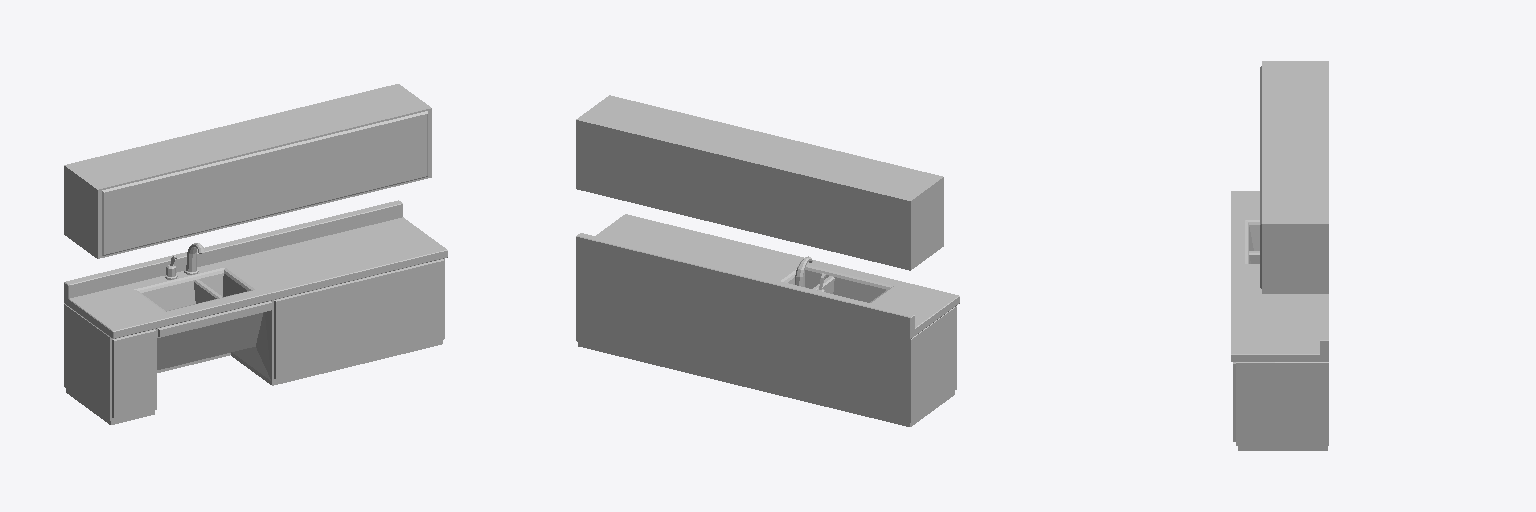
File: breakroom_counter.obj
3 views of the same model, side by side, from view 1: azimuth 30°, elevation 25°; view 2: azimuth 150°, elevation 25°; view 3: azimuth 270°, elevation 25° (orthographic).
Visible parts, largest first — view 1: breakroom_counter breakRoom_cabinetry godot_exports; view 2: breakroom_counter breakRoom_cabinetry godot_exports; view 3: breakroom_counter breakRoom_cabinetry godot_exports.
Boxes of the visible parts, x1,y1,x2,y2 form: breakroom_counter breakRoom_cabinetry godot_exports: [64, 84, 447, 424]; breakroom_counter breakRoom_cabinetry godot_exports: [576, 95, 959, 426]; breakroom_counter breakRoom_cabinetry godot_exports: [1231, 61, 1328, 450].
Size of the model in its own units: 3.41 by 2.21 by 0.8704.